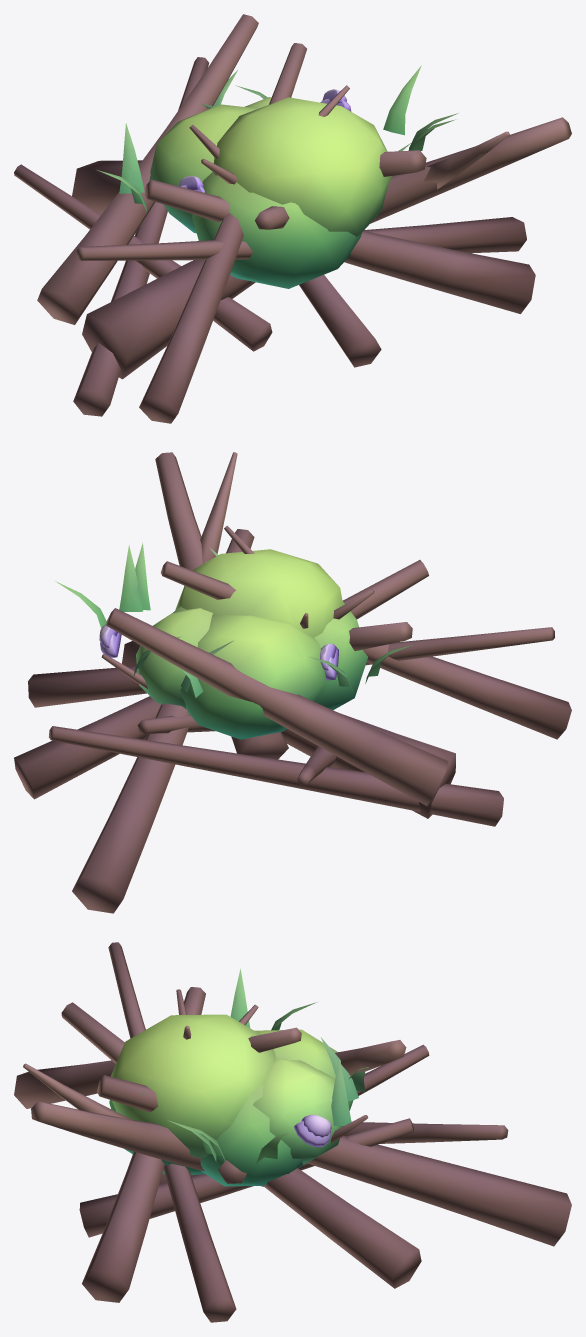
File: verdant_log_branch_pile.glb
3 renders of one model, top to bottom at view 1: azimuth 30°, elevation 25°; view 2: azimuth 150°, elevation 25°; view 3: azimuth 270°, elevation 25°, orthographic. The views are drawn at different scales.
Visible parts, largest first — view 1: verdant_log_branch_pile; view 2: verdant_log_branch_pile; view 3: verdant_log_branch_pile.
Part boxes in pixels (left/top/right/bottom): verdant_log_branch_pile: left=14, top=14, right=571, bottom=423; verdant_log_branch_pile: left=14, top=452, right=571, bottom=913; verdant_log_branch_pile: left=14, top=942, right=571, bottom=1322.
Size of the model in its own units: 2.68 by 1.32 by 2.71.
